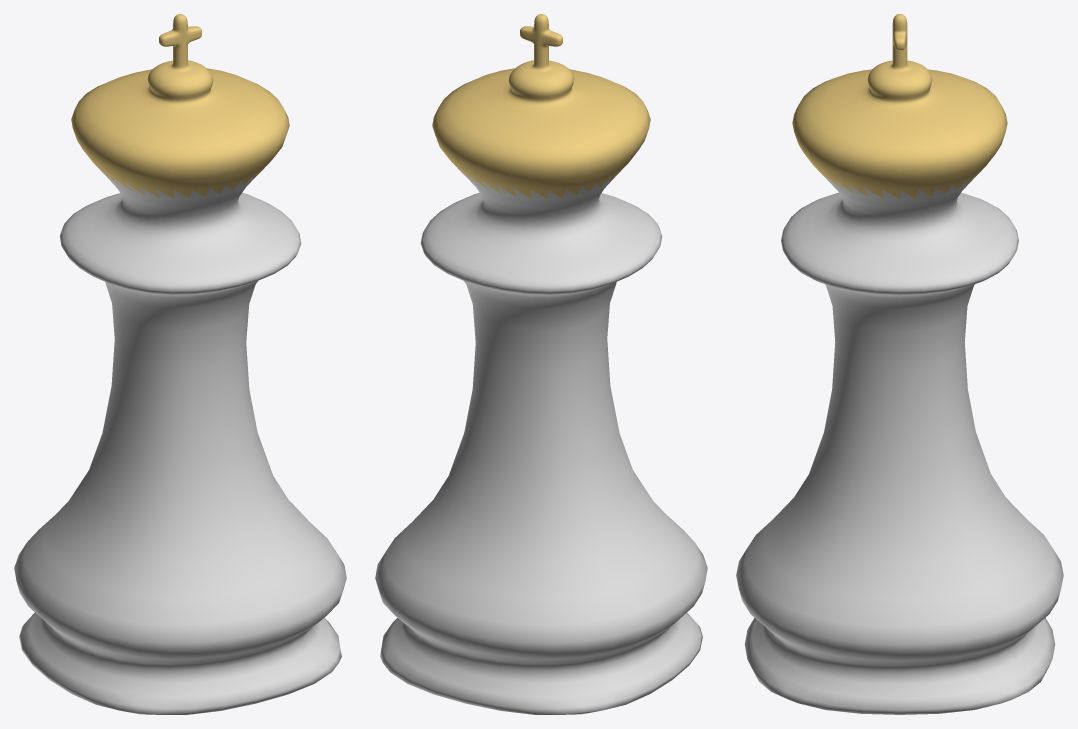
Rendered from sade_k_w.glb.
3 views of the same model, side by side, from view 1: azimuth 30°, elevation 25°; view 2: azimuth 150°, elevation 25°; view 3: azimuth 270°, elevation 25° (orthographic).
Visible parts, largest first — view 1: x; view 2: x; view 3: x.
Part boxes in pixels (x1,y1,x2,y2): x: [14, 14, 346, 714]; x: [375, 14, 707, 714]; x: [736, 14, 1063, 714].
Bounding box in the file's own units: 0.4156 × 0.9 × 0.4156.
